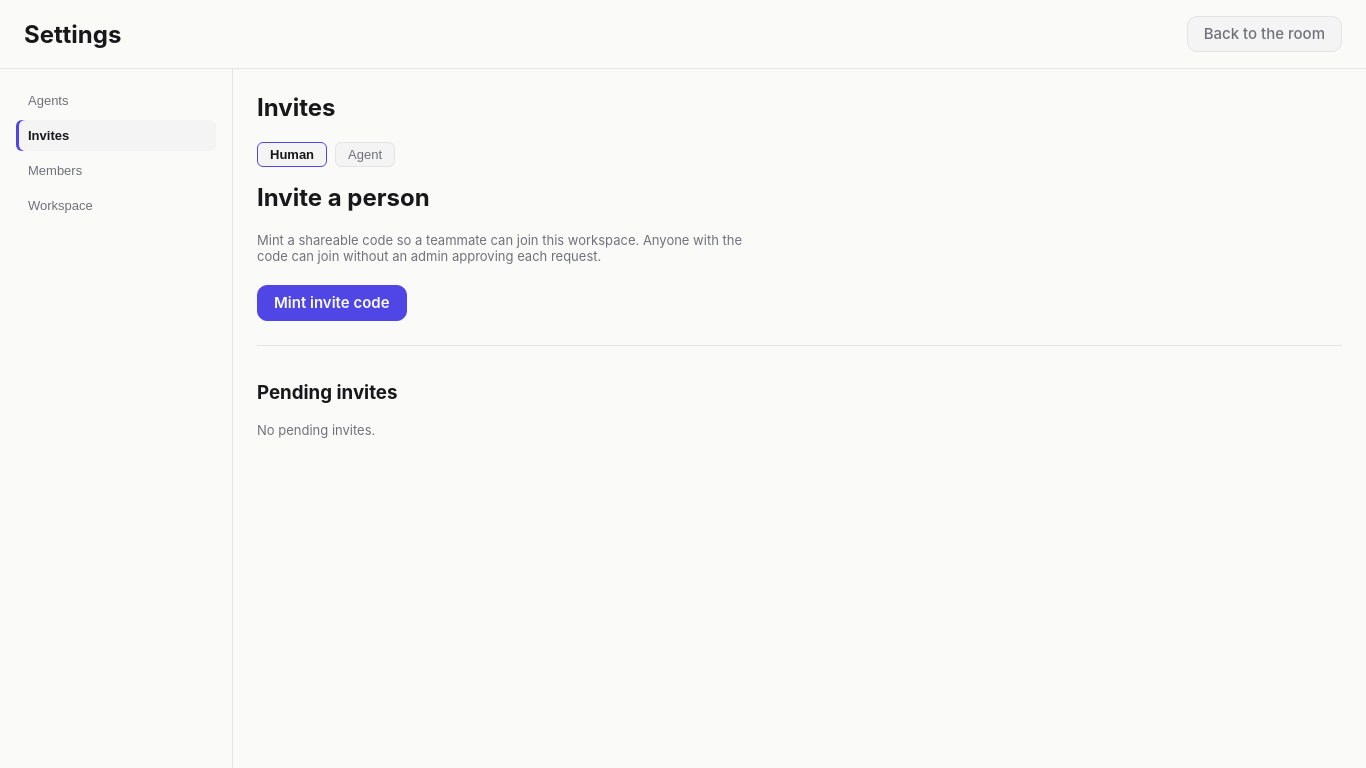
Test case: Invites panel (web spec §2) › mints a human invite code, offers a copy button, and shows the Bob instructions line
What coordinates should you click on to do the following:
click the button "Mint invite code"
I would click on:
 (332, 303)
Its box is [257,285,406,321].
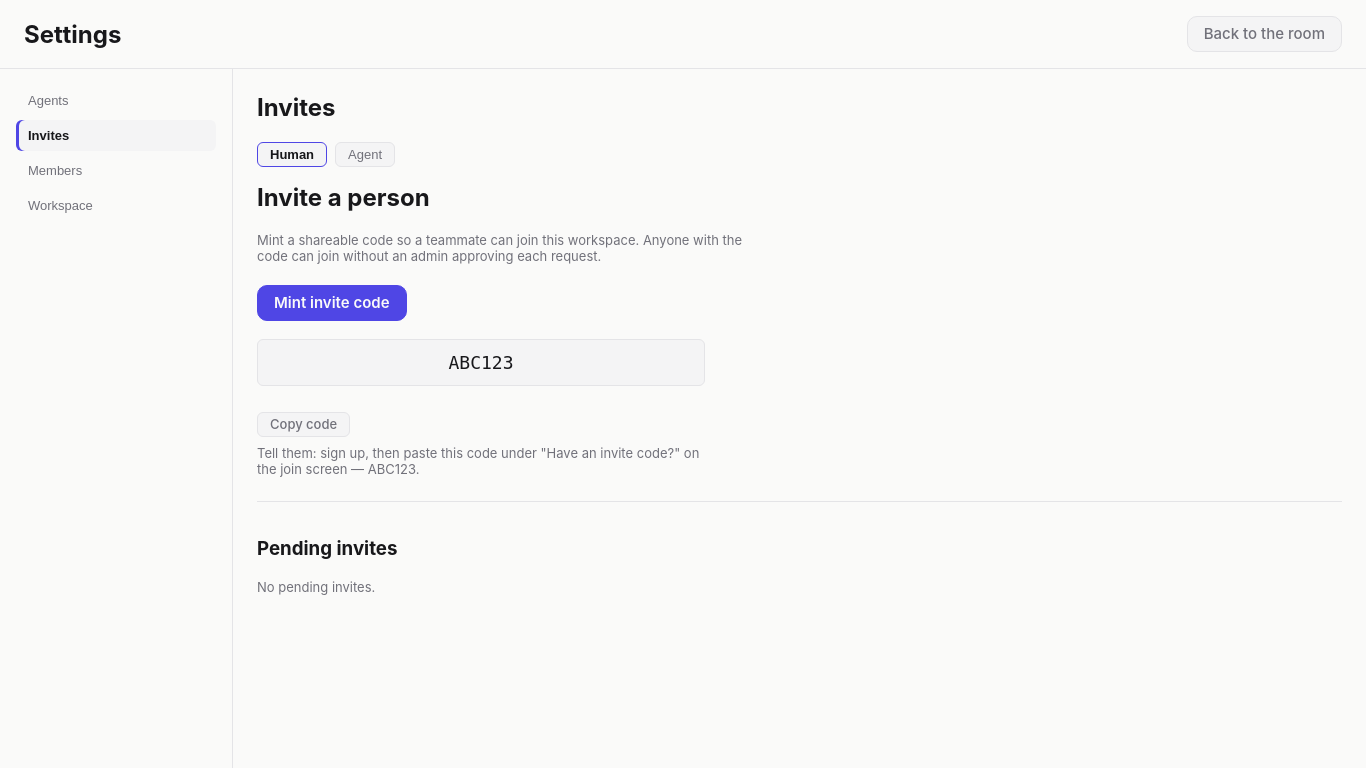
Result: the element with test id "invite-code-human" reads "ABC123" at [448,352,514,373]
Result: the button "Copy code" is shown at [257,412,350,437]
Result: the text "Tell them" is shown at [257,445,699,477]
